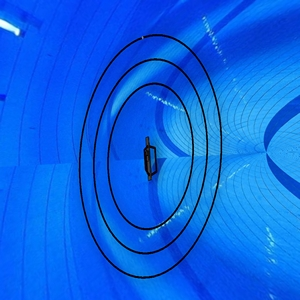circle: (77, 32, 225, 281)
submarine: (137, 134, 164, 185)
